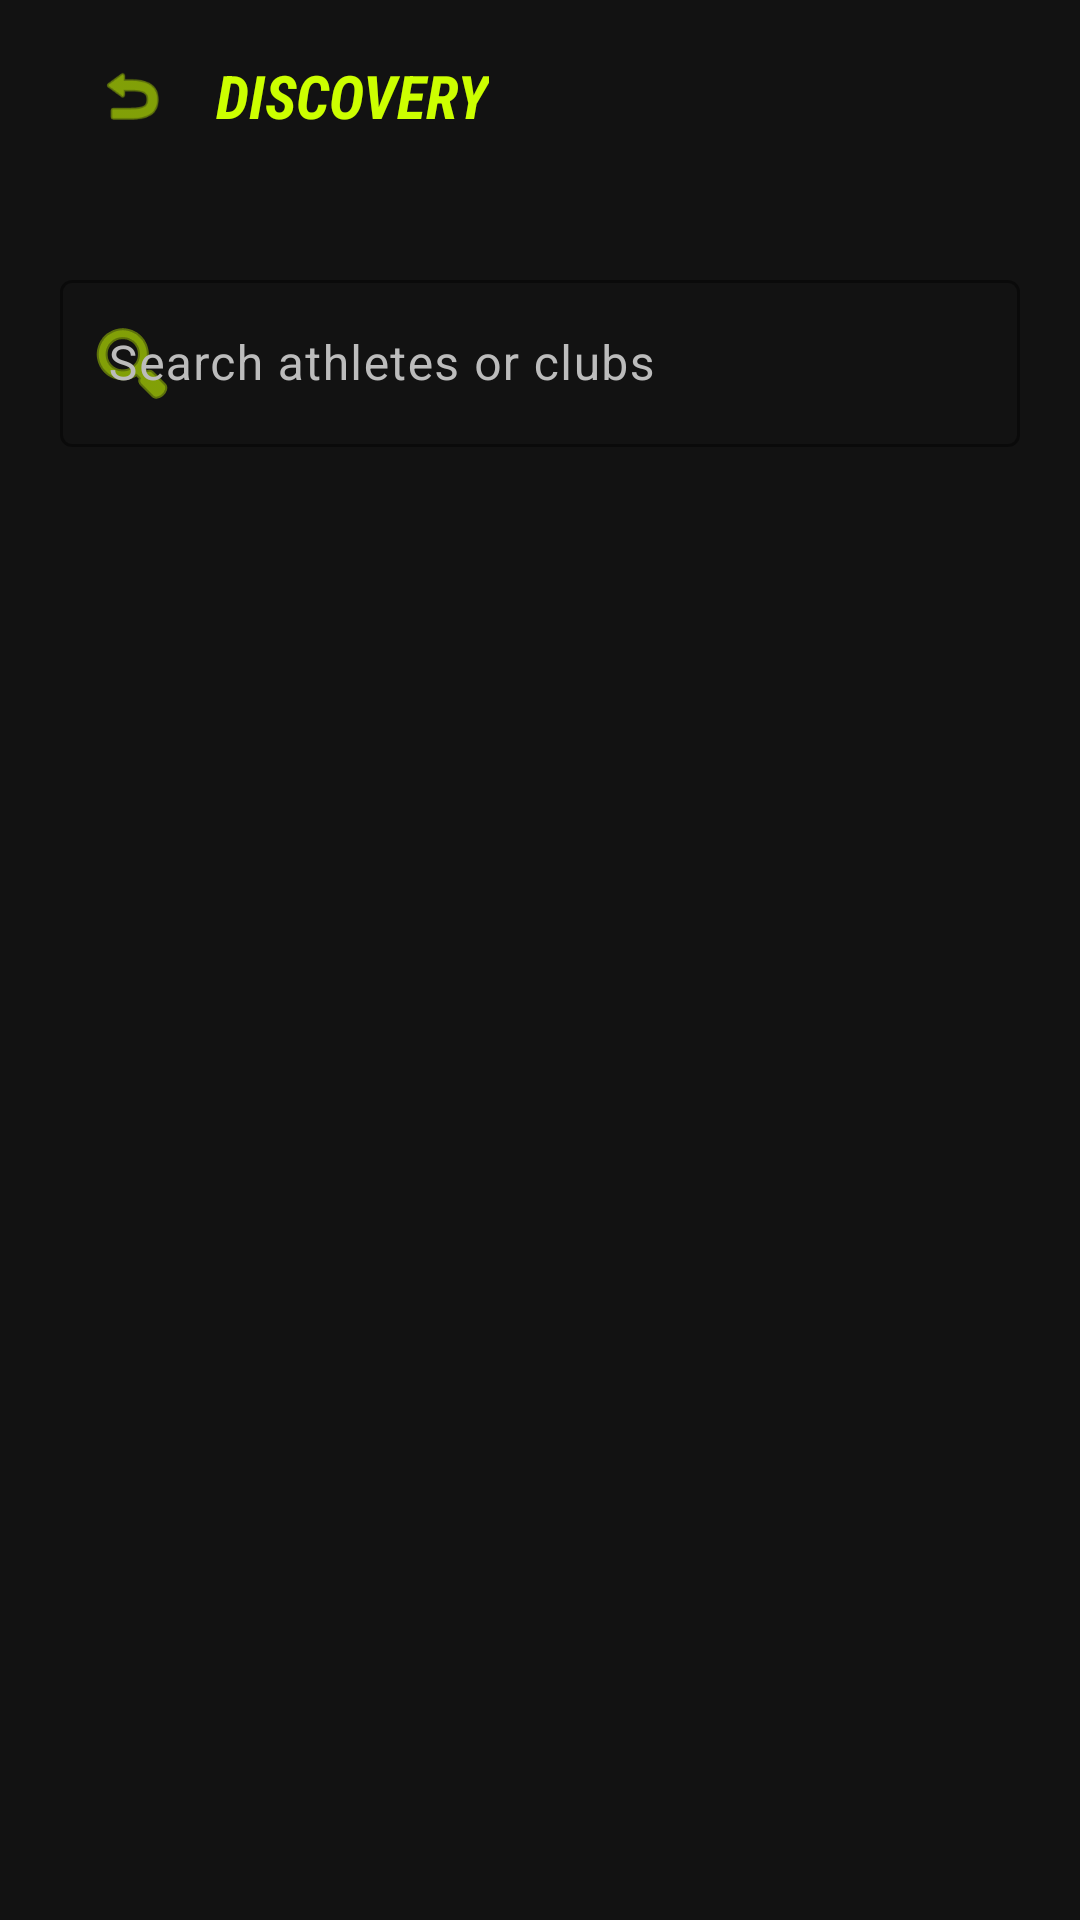

Point at icon controls on the screen. Image size 1080x1920, points as (x=x, y=y).
Navigate Back: (x=133, y=96)
